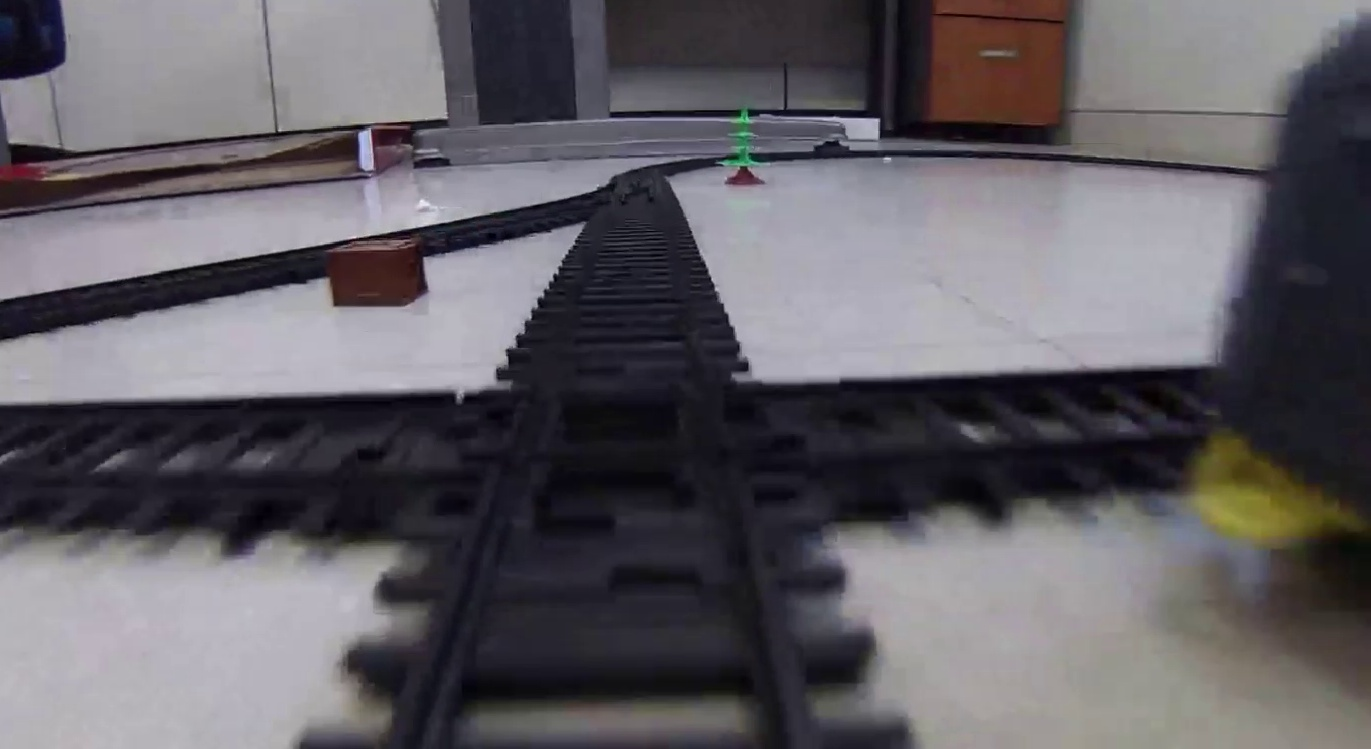box: (331, 241, 424, 310)
tree: (716, 106, 772, 186)
